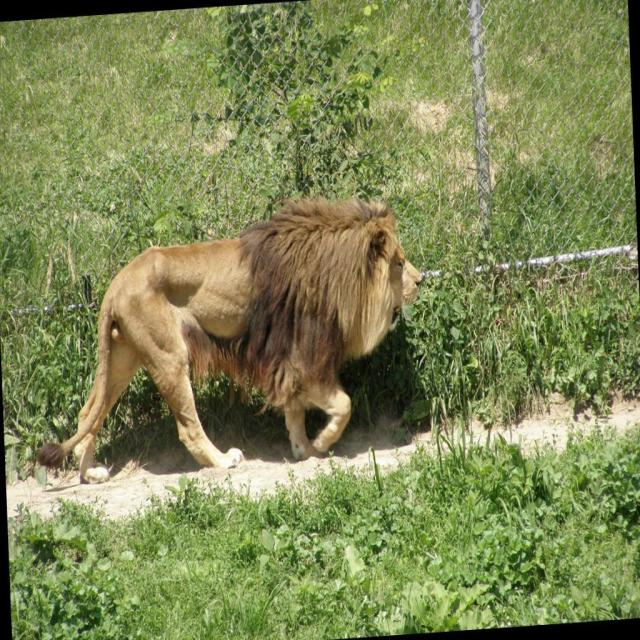Lion: (26, 189, 430, 489)
